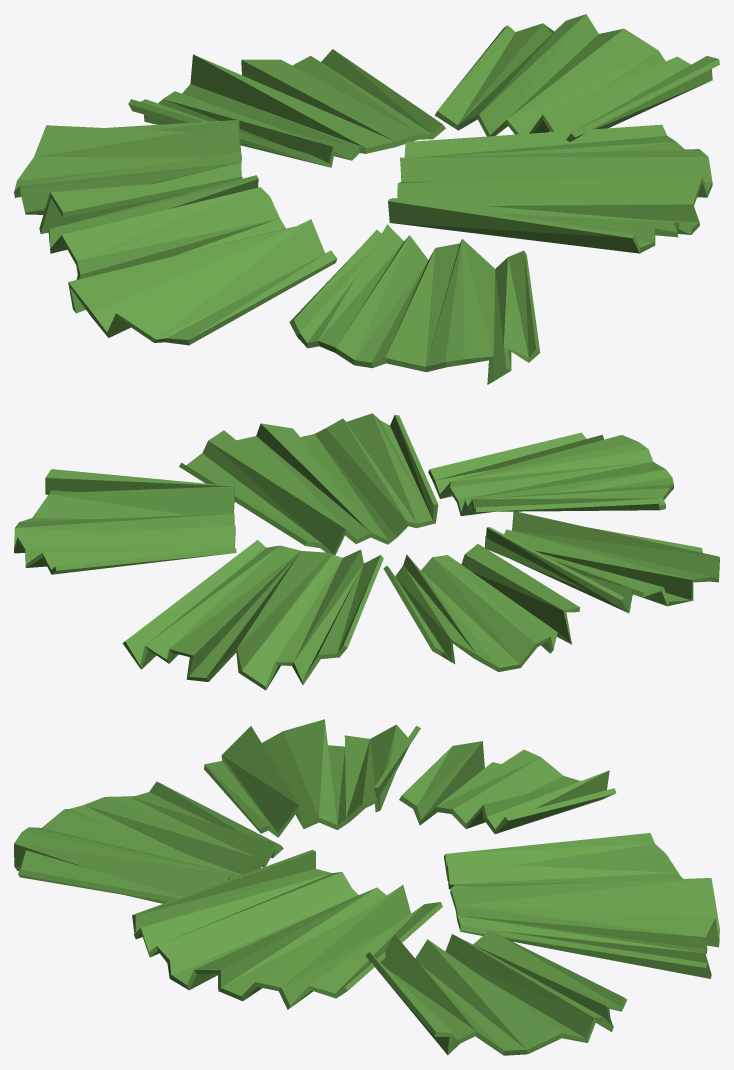
The model's file is Lettuce.glb.
3 views of the same model, one above another, from view 1: azimuth 30°, elevation 25°; view 2: azimuth 150°, elevation 25°; view 3: azimuth 270°, elevation 25° (orthographic). The views are drawn at different scales.
Parts seen in each view (by area): view 1: Lettuce; view 2: Lettuce; view 3: Lettuce.
Boxes of the visible parts, x1=… form: Lettuce: x1=14, y1=14, x2=719, y2=384; Lettuce: x1=14, y1=413, x2=719, y2=690; Lettuce: x1=14, y1=719, x2=719, y2=1055.
Size of the model in its own units: 1.79 by 0.2306 by 1.68.
